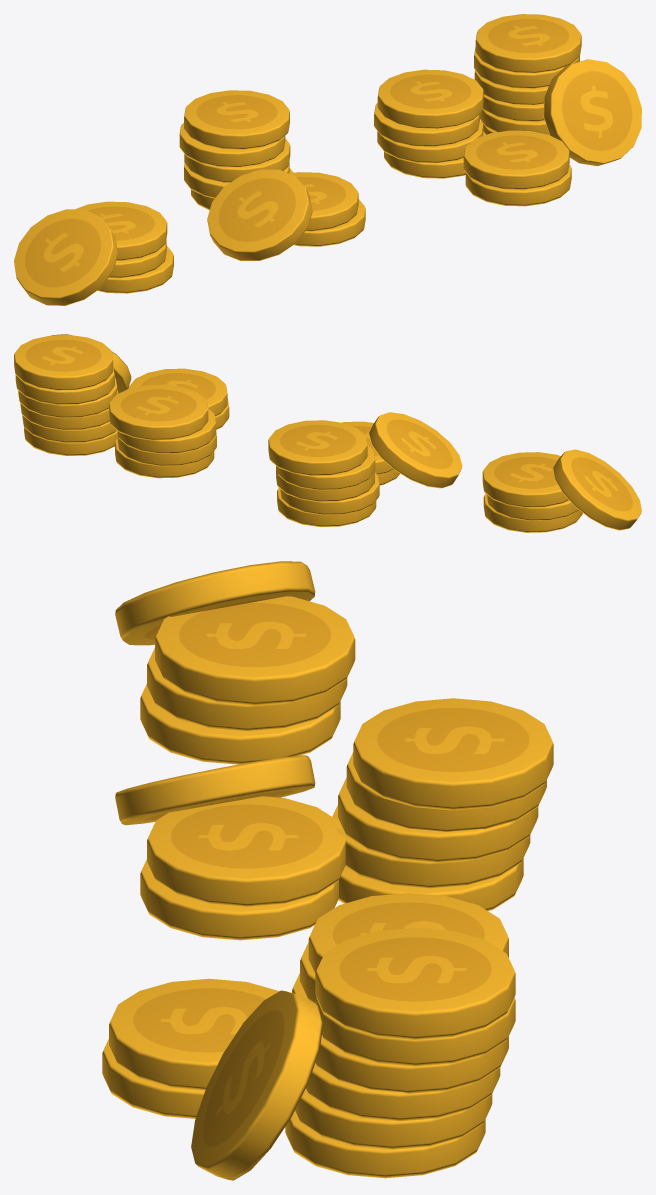
The model's file is monedas.glb.
3 views of the same model, one above another, from view 1: azimuth 30°, elevation 25°; view 2: azimuth 150°, elevation 25°; view 3: azimuth 270°, elevation 25° (orthographic). The views are drawn at different scales.
Visible parts, largest first — view 1: Coin_32, Coin_16, Coin_20, Coin_31, Coin_25, Coin_40, Coin_33, Coin_15, Coin_18, Coin_27, Coin_26, Coin_30 (+11 smaller); view 2: Coin_20, Coin_25, Coin_33, Coin_40, Coin_16, Coin_15, Coin_31, Coin_26, Coin_27, Coin_35, Coin_22, Coin_36 (+11 smaller); view 3: Coin_25, Coin_40, Coin_18, Coin_15, Coin_32, Coin_31, Coin_16, Coin_20, Coin_33, Coin_17, Coin_13, Coin_21 (+10 smaller).
Boxes of the visible parts, x1=… form: Coin_32: x1=543, y1=59, x2=641, y2=166; Coin_16: x1=14, y1=209, x2=117, y2=305; Coin_20: x1=207, y1=169, x2=312, y2=260; Coin_31: x1=463, y1=130, x2=569, y2=189; Coin_25: x1=184, y1=90, x2=289, y2=149; Coin_40: x1=475, y1=14, x2=581, y2=72; Coin_33: x1=377, y1=69, x2=483, y2=128; Coin_15: x1=75, y1=201, x2=167, y2=260; Coin_18: x1=289, y1=172, x2=358, y2=231; Coin_27: x1=374, y1=103, x2=479, y2=146; Coin_26: x1=179, y1=123, x2=285, y2=166; Coin_30: x1=465, y1=165, x2=571, y2=206; Coin_20: x1=369, y1=412, x2=462, y2=488; Coin_25: x1=268, y1=420, x2=367, y2=475; Coin_33: x1=109, y1=384, x2=208, y2=440; Coin_40: x1=14, y1=335, x2=113, y2=390; Coin_16: x1=553, y1=449, x2=641, y2=530; Coin_15: x1=482, y1=452, x2=568, y2=507; Coin_31: x1=128, y1=368, x2=227, y2=416; Coin_26: x1=276, y1=445, x2=375, y2=490; Coin_27: x1=117, y1=408, x2=216, y2=453; Coin_35: x1=15, y1=367, x2=114, y2=404; Coin_22: x1=280, y1=473, x2=379, y2=515; Coin_36: x1=18, y1=378, x2=117, y2=418; Coin_25: x1=353, y1=698, x2=553, y2=810; Coin_40: x1=315, y1=927, x2=515, y2=1039; Coin_18: x1=147, y1=796, x2=345, y2=906; Coin_15: x1=155, y1=596, x2=355, y2=705; Coin_32: x1=191, y1=990, x2=323, y2=1180; Coin_31: x1=109, y1=978, x2=279, y2=1089; Coin_16: x1=115, y1=561, x2=315, y2=645; Coin_20: x1=115, y1=755, x2=315, y2=825; Coin_33: x1=308, y1=893, x2=508, y2=973; Coin_17: x1=140, y1=859, x2=338, y2=940; Coin_13: x1=140, y1=684, x2=340, y2=764; Coin_21: x1=338, y1=778, x2=538, y2=862.
Bounding box in the file's own units: 0.1167 × 0.0169 × 0.0389.
1 material, 1 textured.
